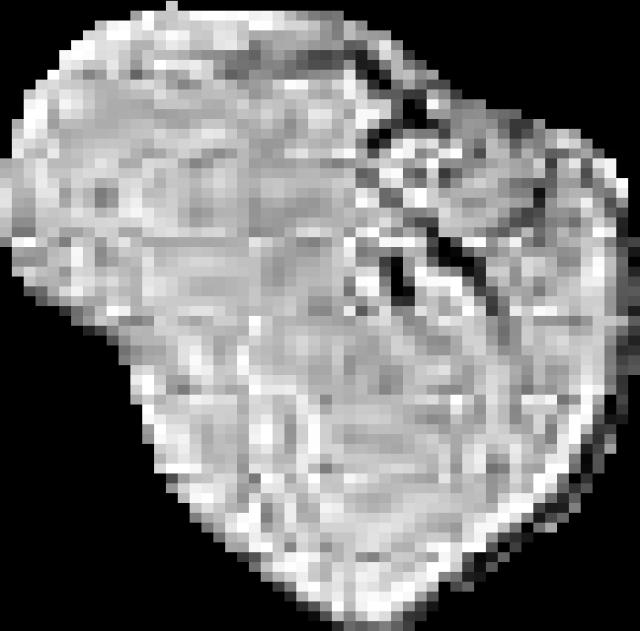tumor_good_chance: (0, 1, 640, 631)
